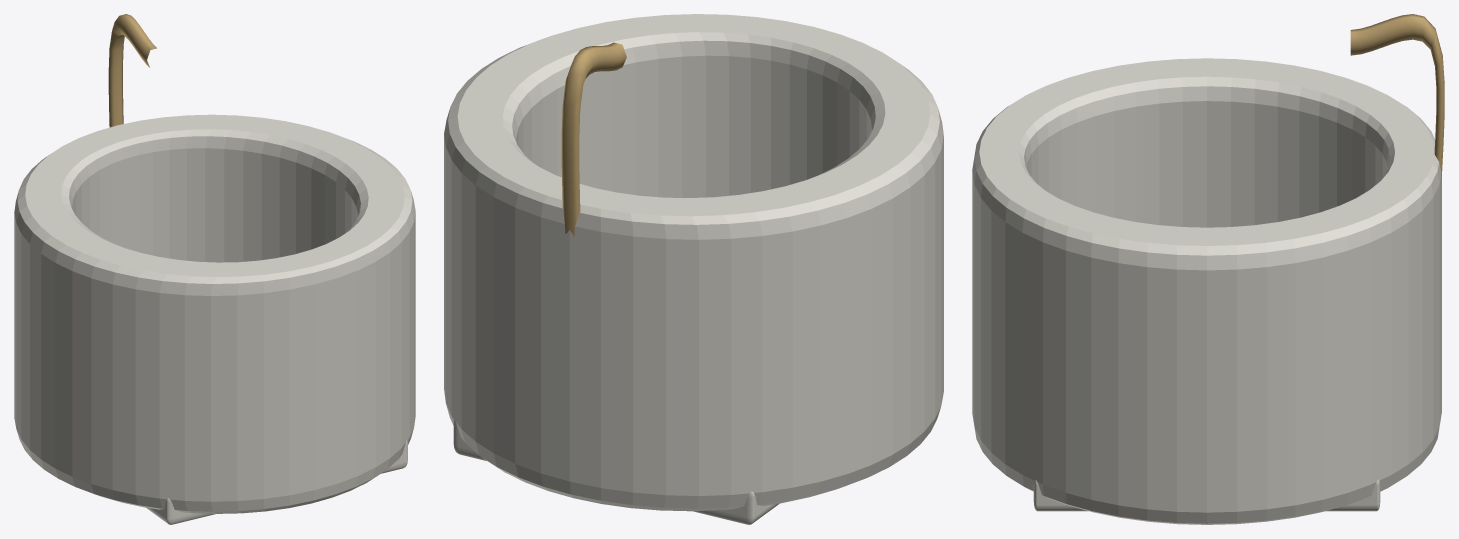
Rendered from bath-10-0.glb.
3 views of the same model, side by side, from view 1: azimuth 30°, elevation 25°; view 2: azimuth 150°, elevation 25°; view 3: azimuth 270°, elevation 25° (orthographic). The views are drawn at different scales.
Parts seen in each view (by area): view 1: part (×2); view 2: part (×2); view 3: part (×2).
Boxes of the visible parts, left/top/right/bottom form: part (×2): left=14, top=14, right=415, bottom=524; part (×2): left=444, top=14, right=943, bottom=524; part (×2): left=972, top=14, right=1444, bottom=524.
Size of the model in its own units: 1 by 1 by 1.
